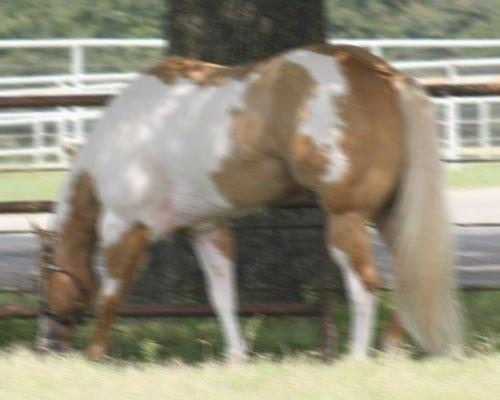horse: (30, 42, 472, 367)
